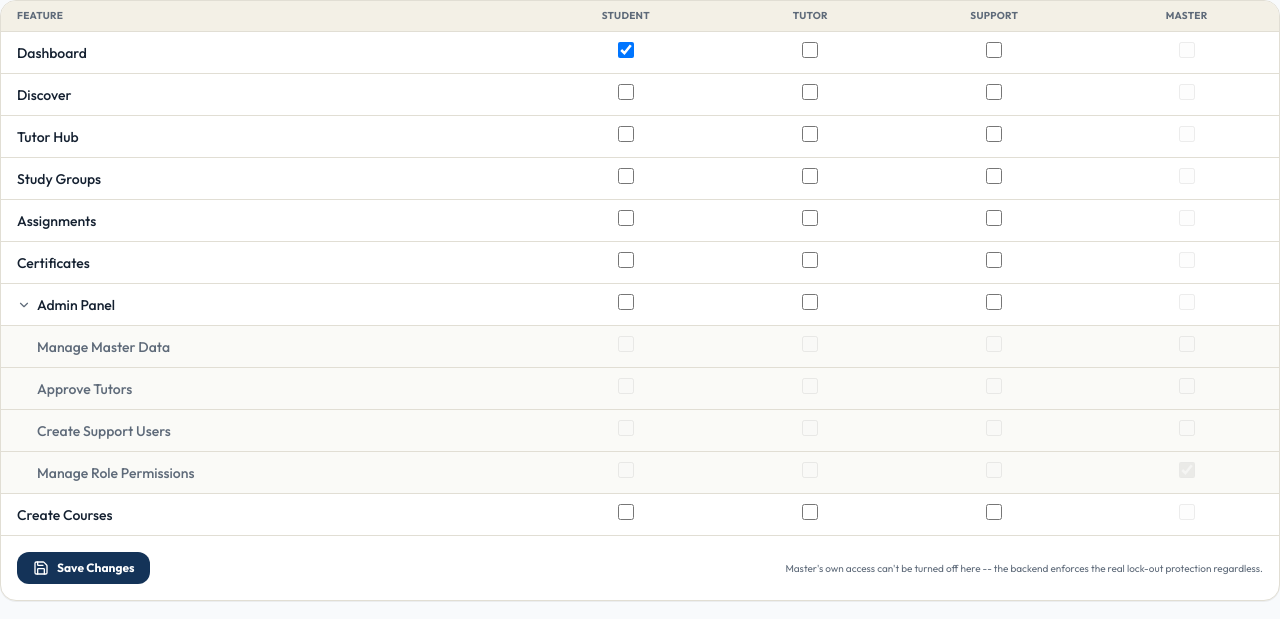
Test: RoleVisibilityManager › surfaces the service error message on save failure
Expected: the checkbox named "Student - Dashboard" is shown, [618,42,634,58]
Step 1. Click the button "Save Changes" → (84, 568), box [17,552,150,584]
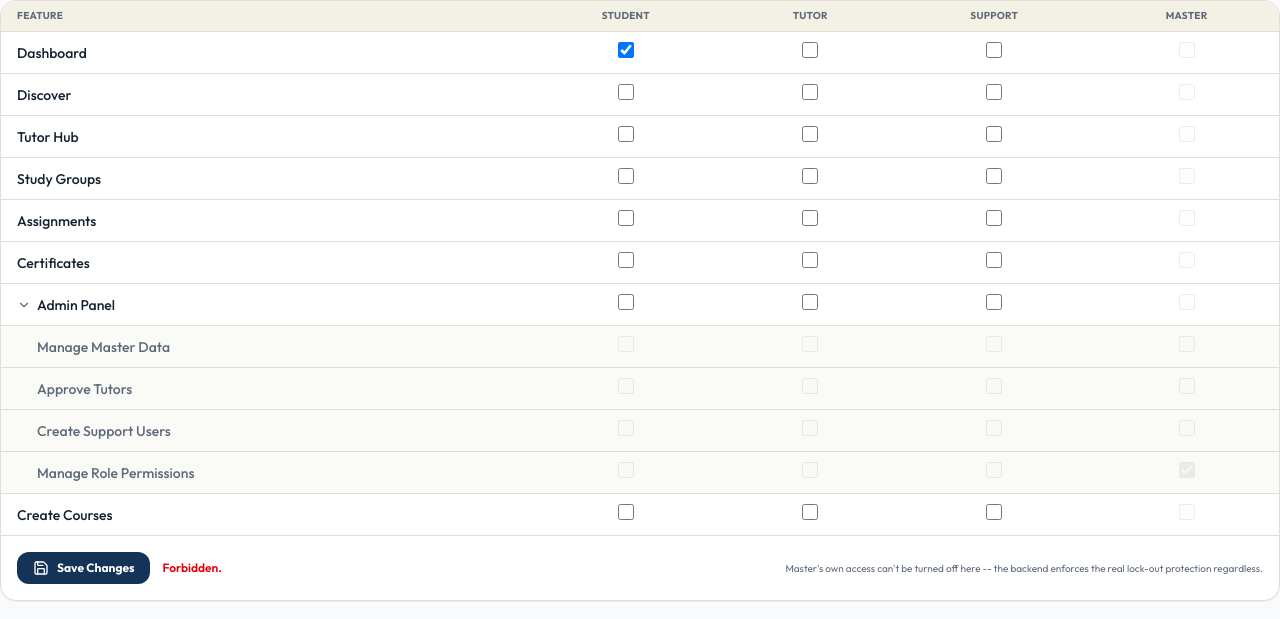
Expected: the text "Forbidden." is shown, [162,560,222,576]
